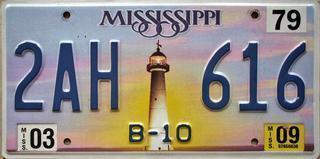placa de veiculo: (4, 0, 314, 153)
